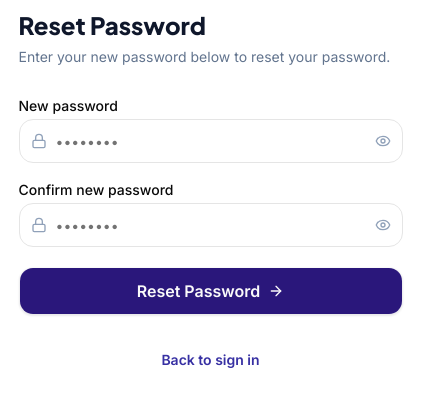
Test case: ResetPasswordForm › Client-side validation › shows an error when passwords do not match
In the password field named "newPassword": (210, 141) [18,119,402,163], type "Password123!"
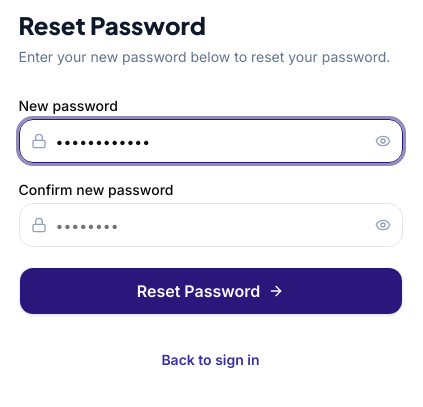
In the password field named "confirmPassword": (210, 225) [18,203,402,247], type "DifferentPassword123!"
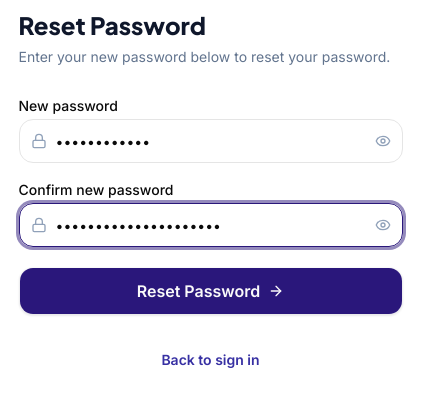
Click the button "Reset Password": click(210, 291) [18,267,402,315]
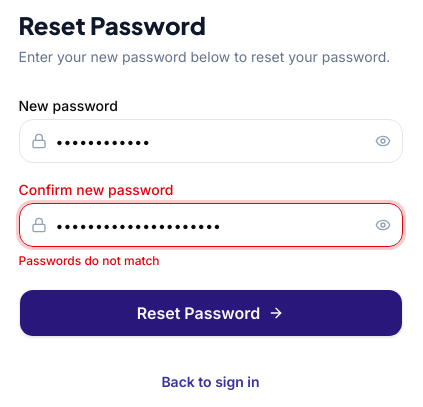
expect the text "Passwords do not match" is shown: met, box [18,253,160,268]
